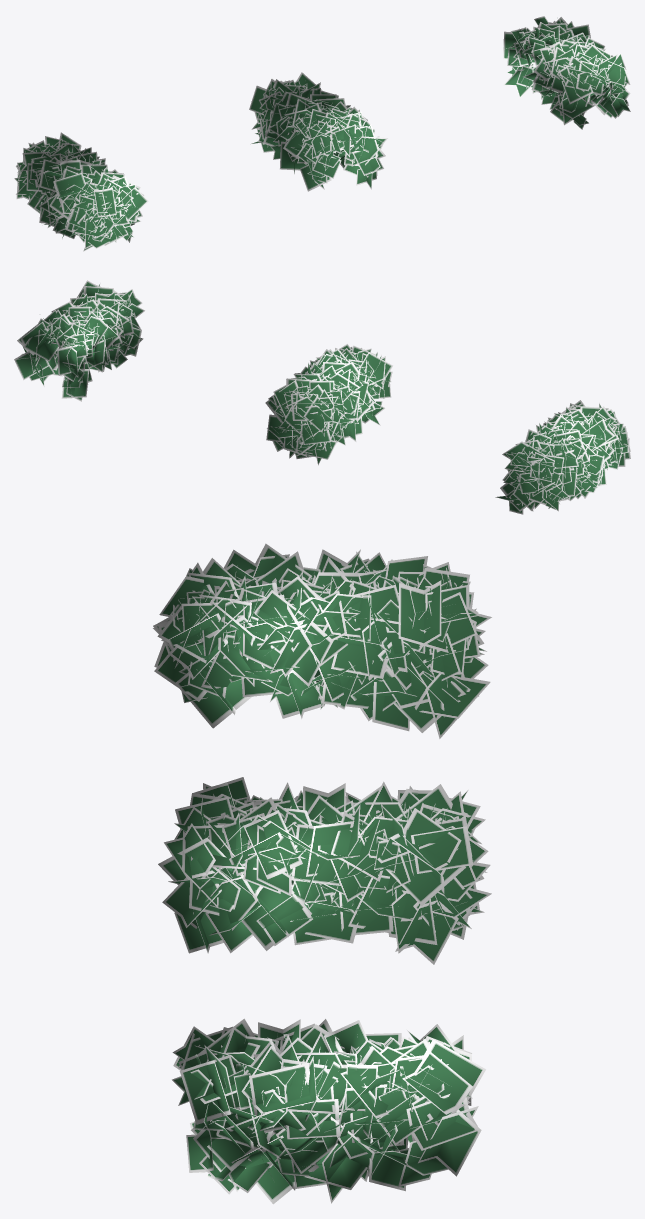
File: bushes_test_03 (3).fbx
3 views of the same model, one above another, from view 1: azimuth 30°, elevation 25°; view 2: azimuth 150°, elevation 25°; view 3: azimuth 270°, elevation 25° (orthographic). The views are drawn at different scales.
Visible parts, largest first — view 1: leaf.003, leaf.001, leaf.002; view 2: leaf.003, leaf.001, leaf.002; view 3: leaf.001, leaf.003, leaf.002.
Boxes of the visible parts, x1,y1,x2,y2 form: leaf.003: [249, 72, 387, 191]; leaf.001: [14, 132, 148, 251]; leaf.002: [503, 16, 630, 129]; leaf.003: [265, 344, 392, 465]; leaf.001: [495, 400, 630, 514]; leaf.002: [14, 280, 144, 401]; leaf.001: [153, 543, 491, 738]; leaf.003: [158, 777, 491, 964]; leaf.002: [172, 1018, 485, 1204].
Size of the model in its own units: 1527 by 194 by 402.
